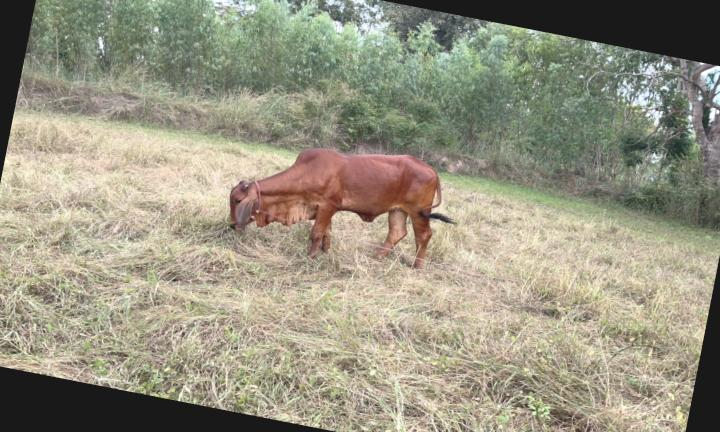Brahman: (229, 148, 454, 267)
